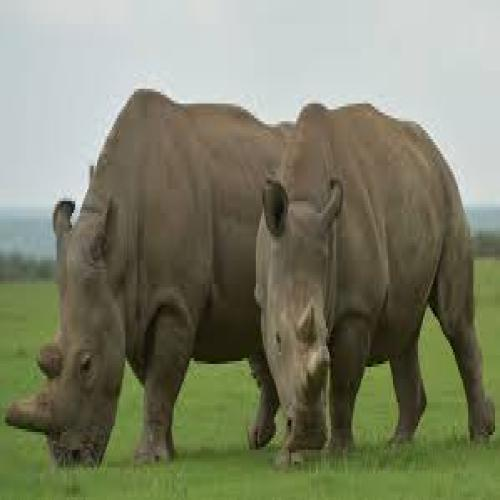rhino-endangered: (7, 86, 268, 468), (252, 99, 498, 453)
